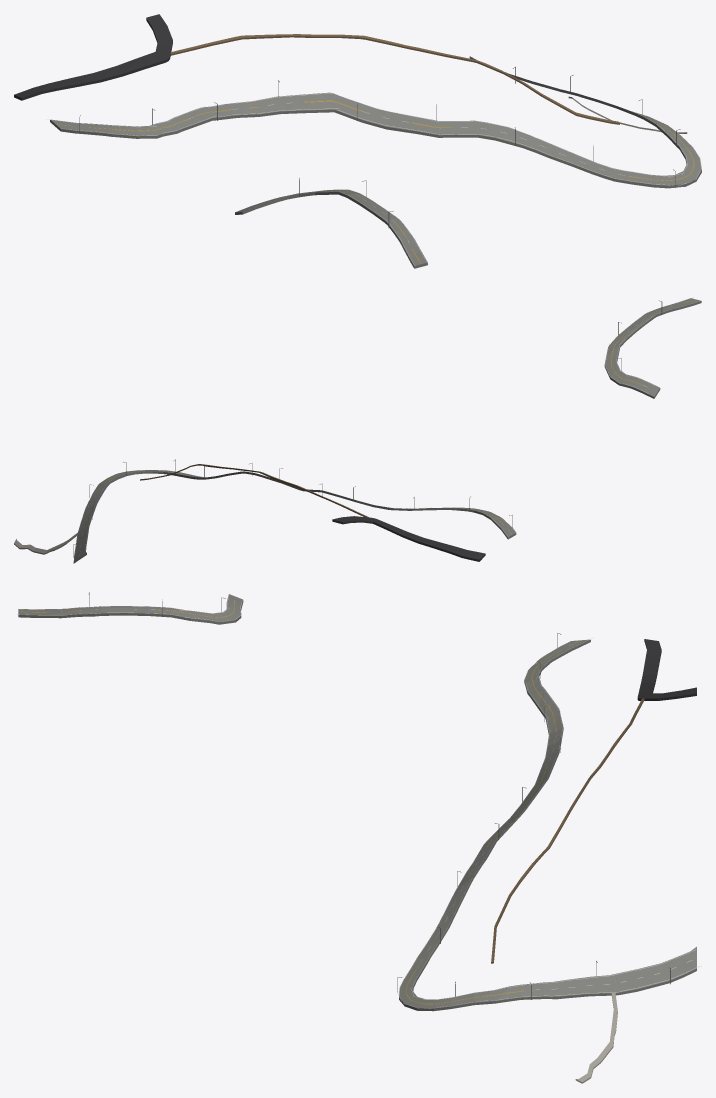
Rendered from 17-109434-59464.983fdf5c.glb.
3 renders of one model, top to bottom at view 1: azimuth 30°, elevation 25°; view 2: azimuth 150°, elevation 25°; view 3: azimuth 270°, elevation 25°, orthographic. The views are drawn at different scales.
Bounding box in the file's own units: 295 × 112 × 295.
